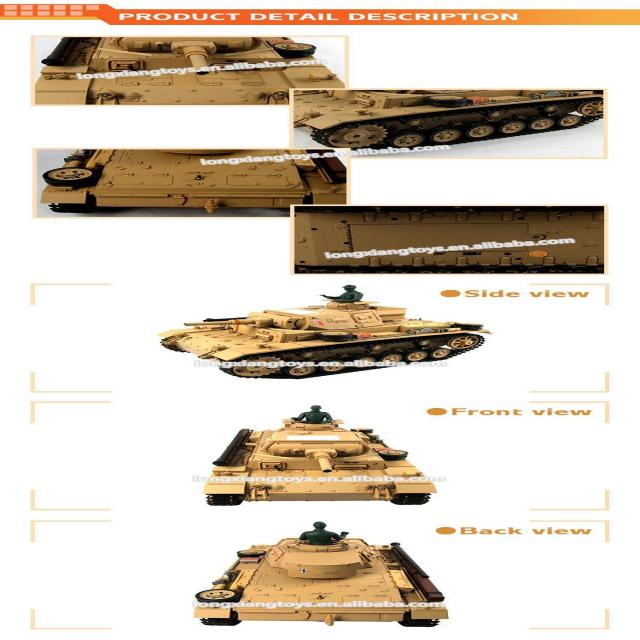Tanks: (165, 281, 495, 383), (198, 402, 435, 514), (192, 531, 453, 628), (286, 94, 603, 142)
